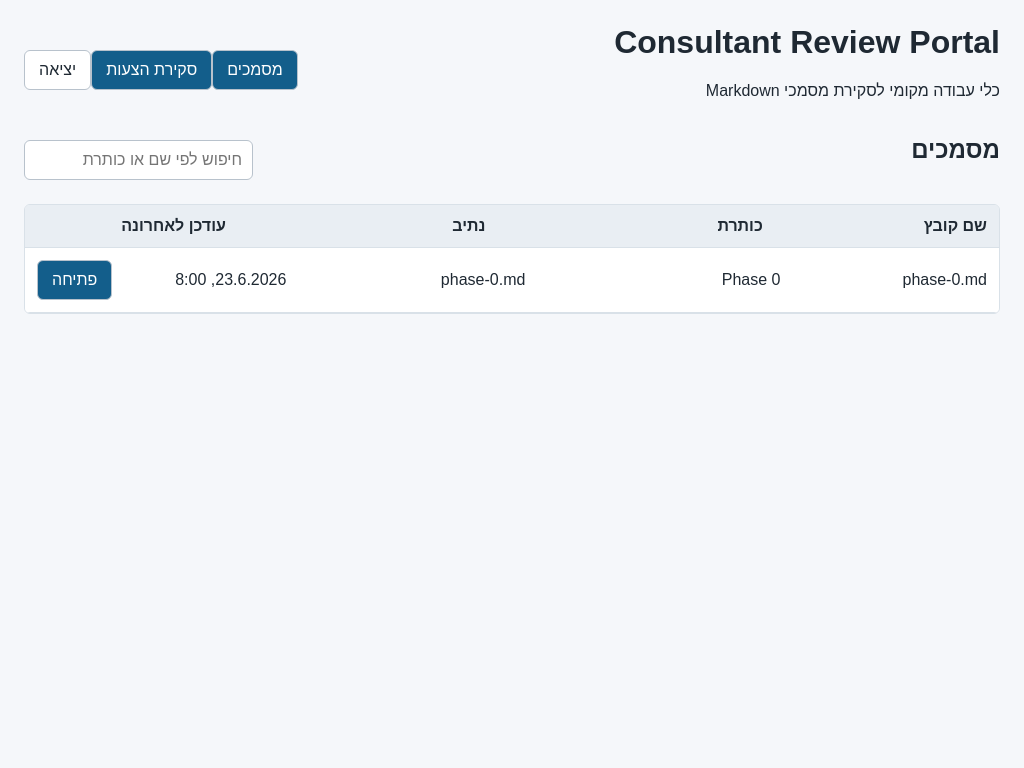
App › renders structured markdown preview blocks without raw html
Step 1. Click the button "פתיחה" → (75, 280), box [37, 260, 112, 300]
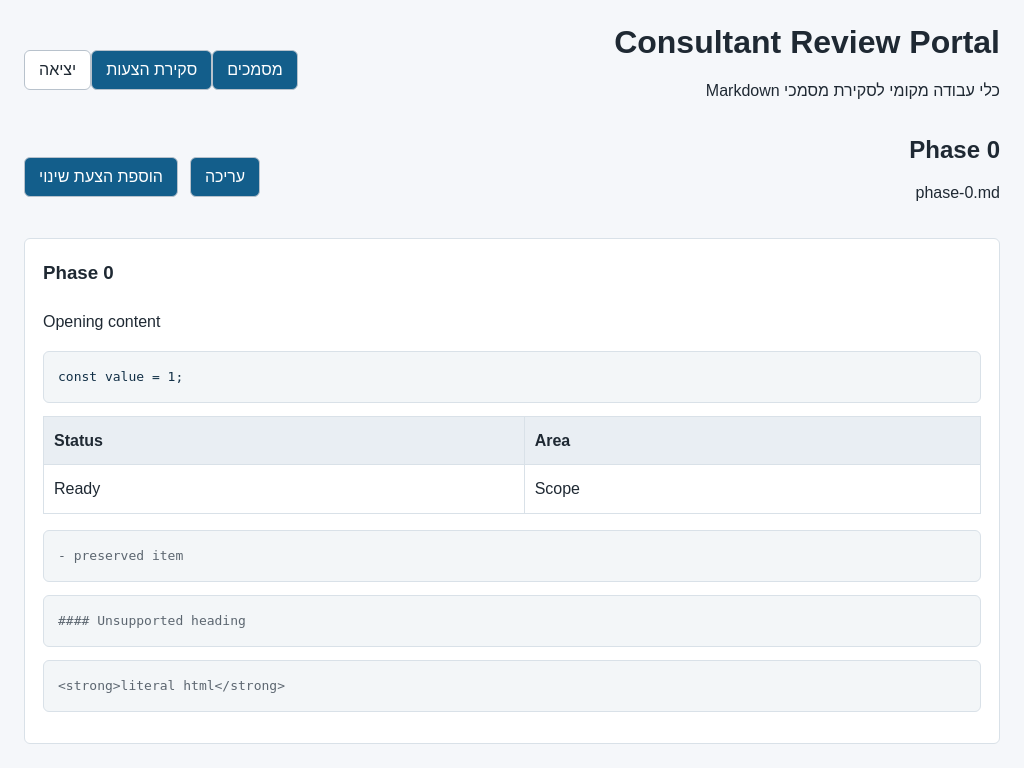
Check: the 2nd heading "Phase 0" is shown, box [43, 262, 114, 283]
Check: the text "const value = 1;" is shown, box [58, 369, 183, 384]
Check: the table is shown, box [43, 416, 981, 514]
